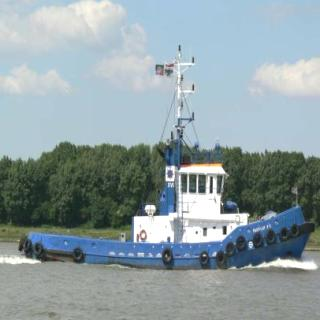Tug Boat: (8, 52, 313, 267)
